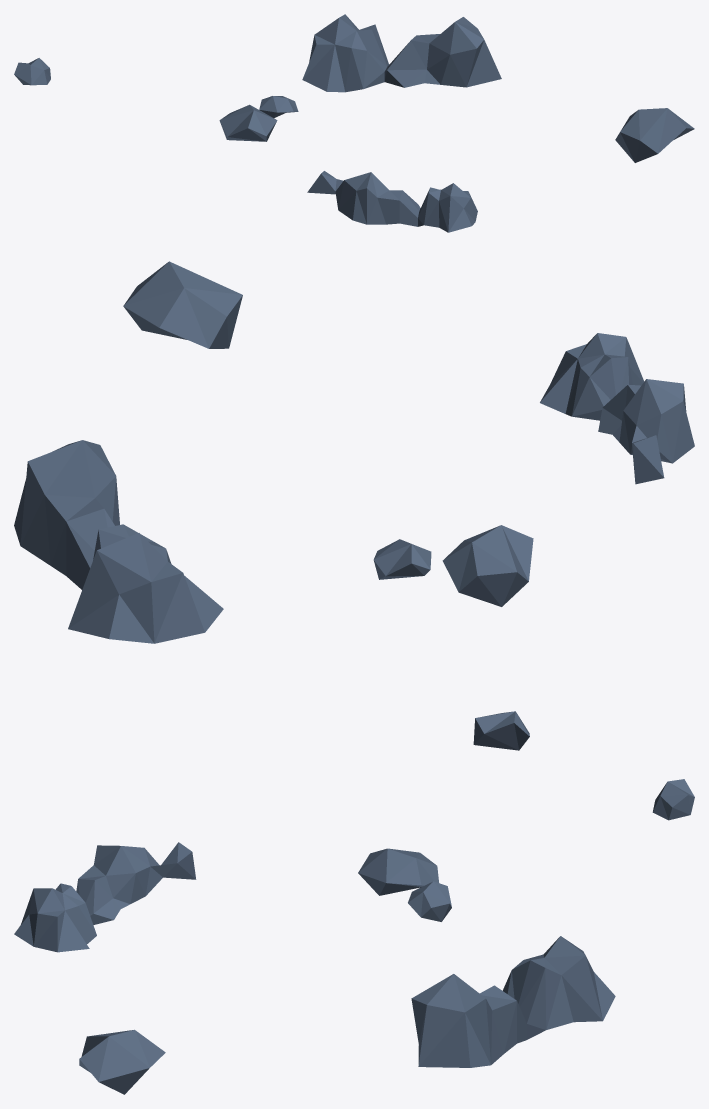
Rendered from webSceneRocks.dae.
3 renders of one model, top to bottom at view 1: azimuth 30°, elevation 25°; view 2: azimuth 150°, elevation 25°; view 3: azimuth 270°, elevation 25°, orthographic. The views are drawn at different scales.
Parts seen in each view (by area): view 1: Cube_001, Cube_002, Cube_004, Cube, Cube_005, Cube_003; view 2: Cube_001, Cube_002, Cube_004, Cube, Cube_003, Cube_005; view 3: Cube_001, Cube_002, Cube_004, Cube, Cube_003, Cube_005.
Part boxes in pixels (x1,y1,x2,y2): Cube_001: (302,14,501,92); Cube_002: (307,171,477,232); Cube_004: (615,108,694,162); Cube: (219,104,277,141); Cube_005: (14,58,50,85); Cube_003: (259,96,298,117); Cube_001: (14,440,223,643); Cube_002: (540,333,694,484); Cube_004: (123,261,242,348); Cube: (442,525,533,606); Cube_003: (373,539,431,579); Cube_005: (473,711,529,750); Cube_001: (411,936,615,1067); Cube_002: (14,842,196,952); Cube_004: (79,1029,165,1094); Cube: (358,848,438,895); Cube_003: (408,881,451,921); Cube_005: (652,779,694,820).
Bounding box in the file's own units: 39.14 × 38.61 × 5.63.
